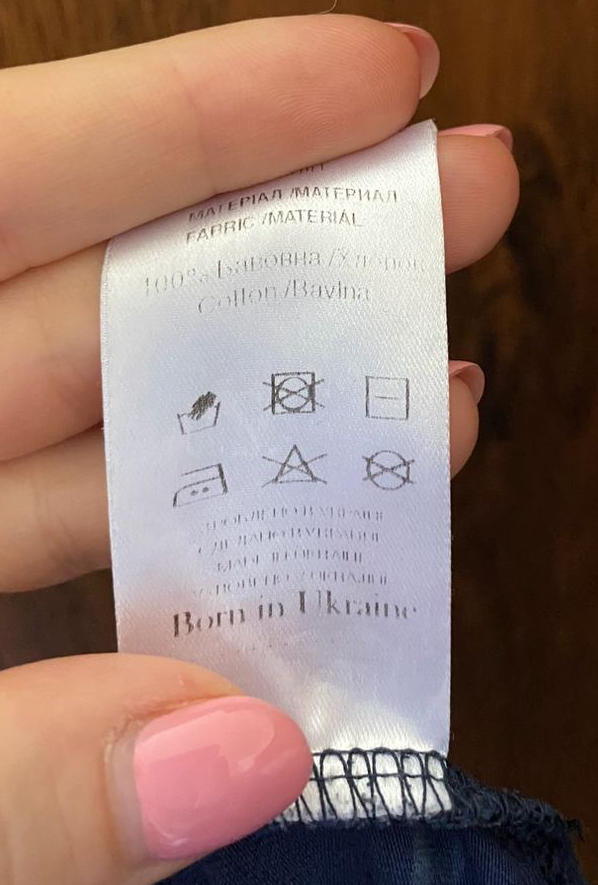do_not_bleach: (259, 434, 331, 493)
do_not_dry_clean: (352, 445, 424, 495)
do_not_tumble_drying: (261, 366, 328, 420)
dry_flat: (358, 371, 417, 423)
hand_wash: (171, 383, 225, 438)
ironing_at_med_temp: (166, 455, 235, 513)
